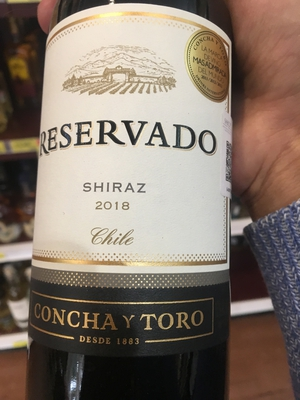reservado shiraz: (29, 18, 231, 399)
